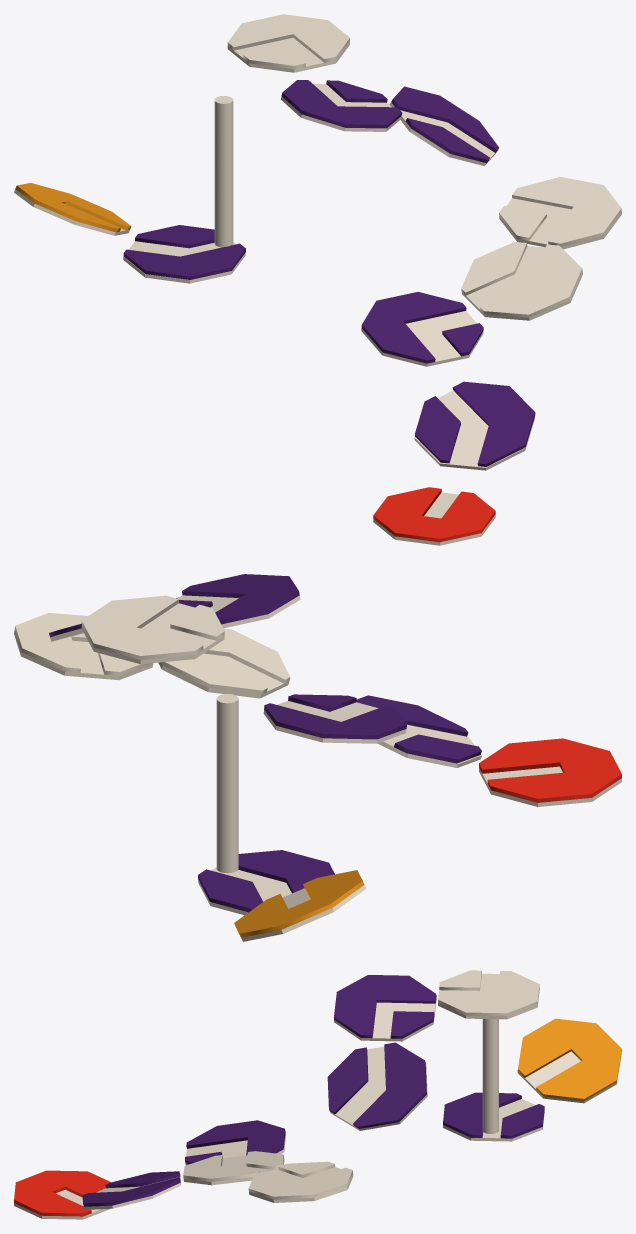
The model's file is Lvl_005.FBX.
The picture shows the model from 3 angles, top to bottom: view 1: azimuth 30°, elevation 25°; view 2: azimuth 150°, elevation 25°; view 3: azimuth 270°, elevation 25°; orthographic projection. The views are drawn at different scales.
Parts seen in each view (by area): view 1: NGon029; view 2: NGon029; view 3: NGon029.
Part boxes in pixels (x1,y1,x2,y2): NGon029: (14,14,621,545); NGon029: (14,574,621,941); NGon029: (14,970,621,1219).
Bounding box in the file's own units: 65.36 × 40.36 × 89.98.
